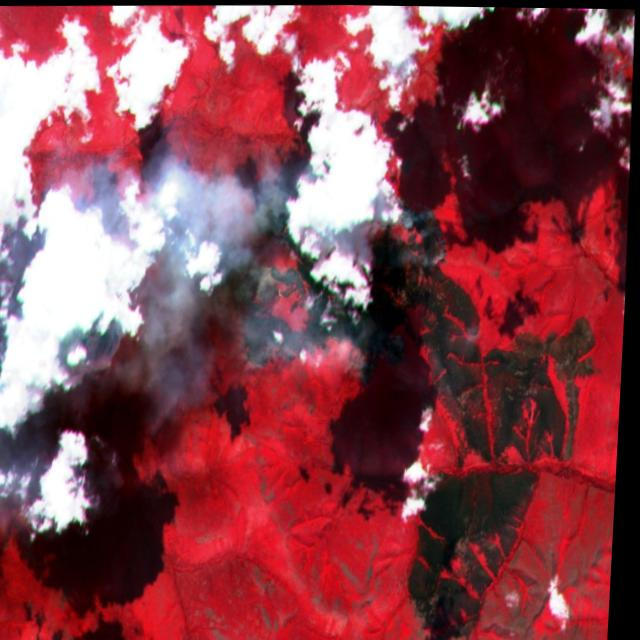fire: (231, 303, 404, 390), (406, 181, 455, 275), (468, 321, 485, 345)
